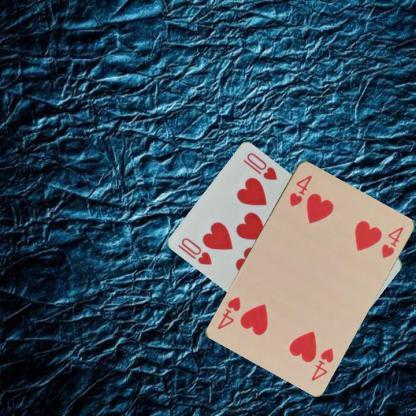10h: (178, 235, 214, 266)
4h: (308, 344, 335, 382), (286, 172, 314, 208)
